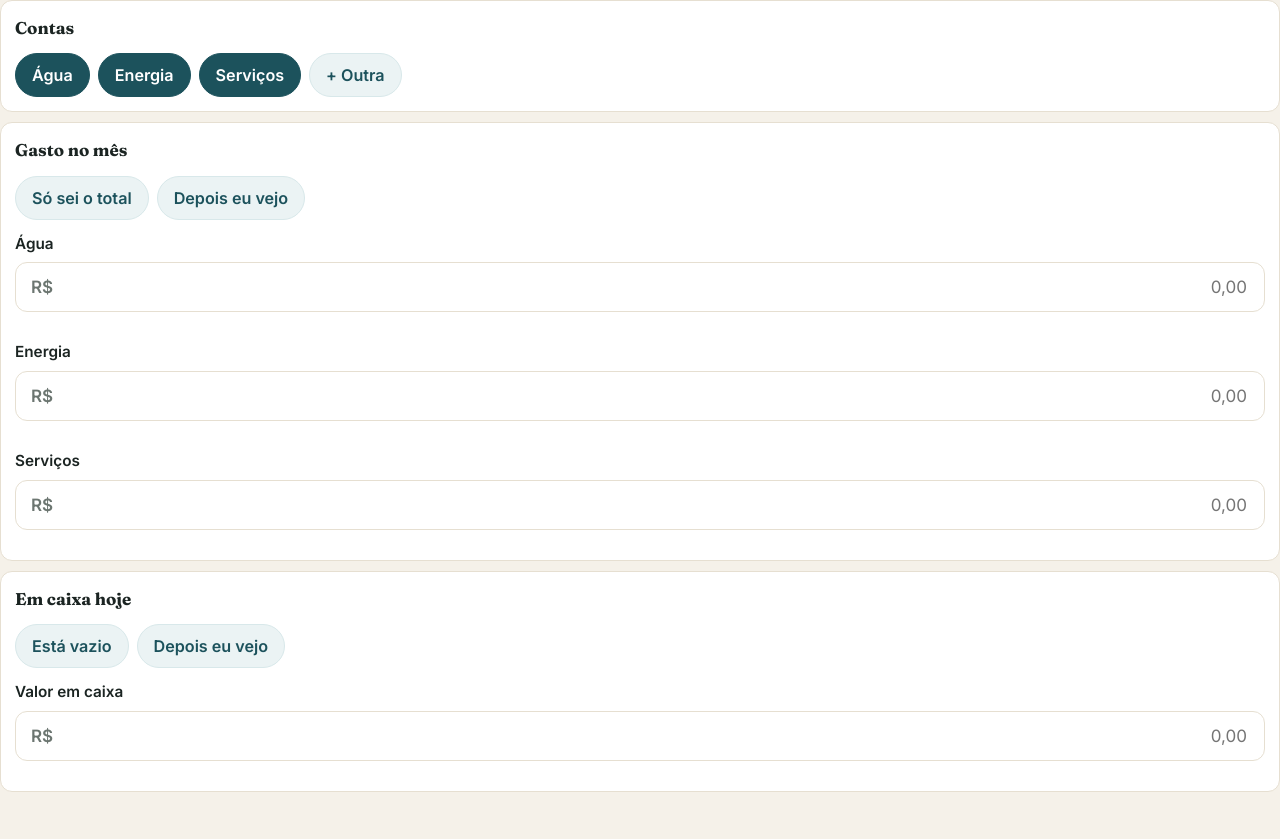
Scenario: GroundStep › a repeated category shows an error
Click the button "+ Outra" at (355,75), box [309,53,402,97]
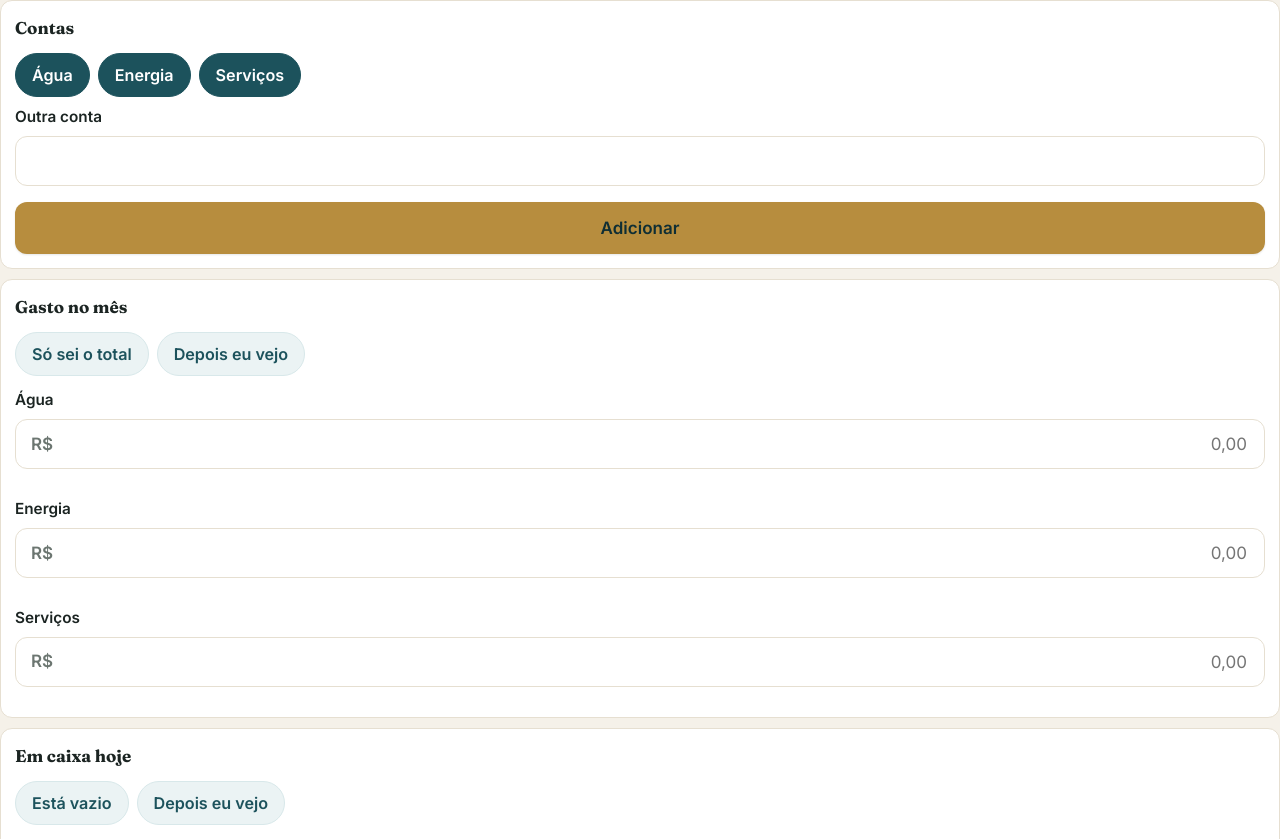
Type "água" into the field labelled "Outra conta" at (640,161), box [15,136,1265,186]
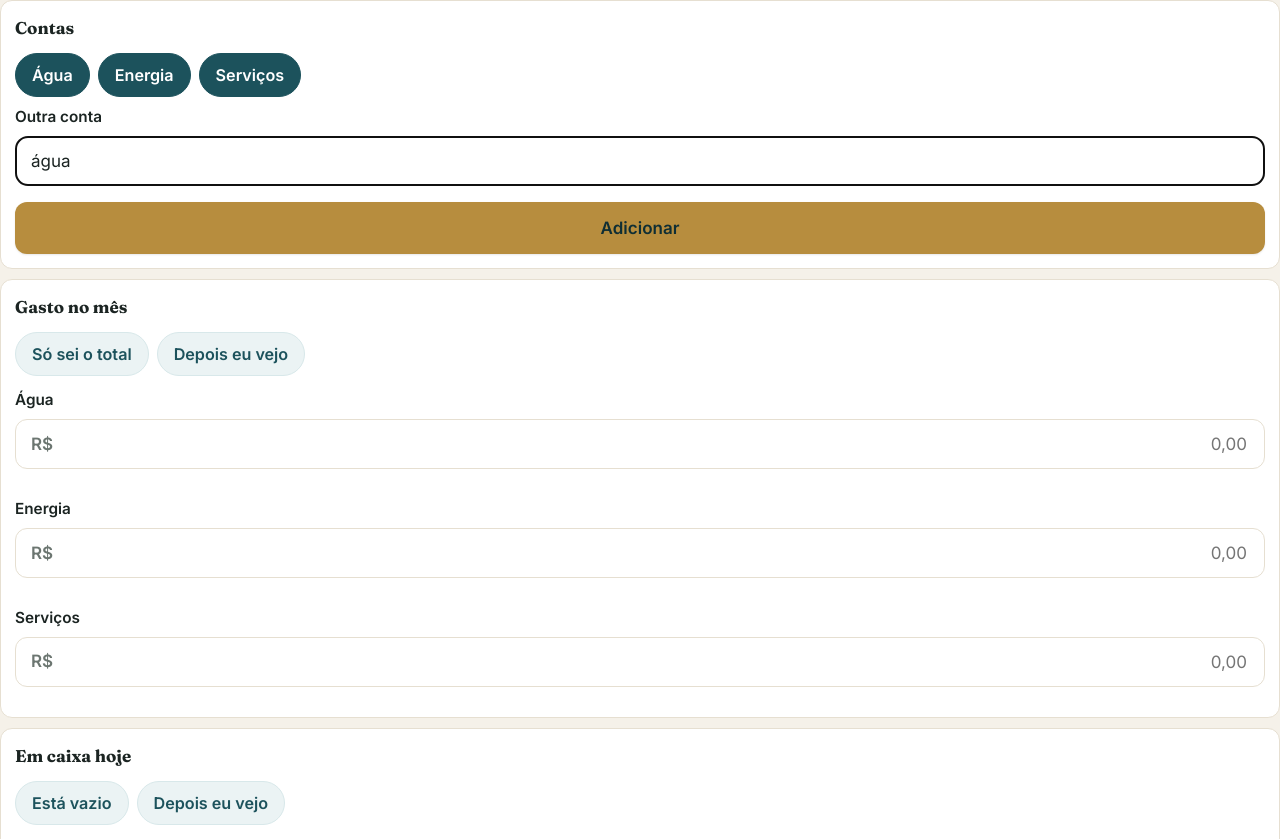
Click the button "Adicionar" at (640,228), box [15,202,1265,254]
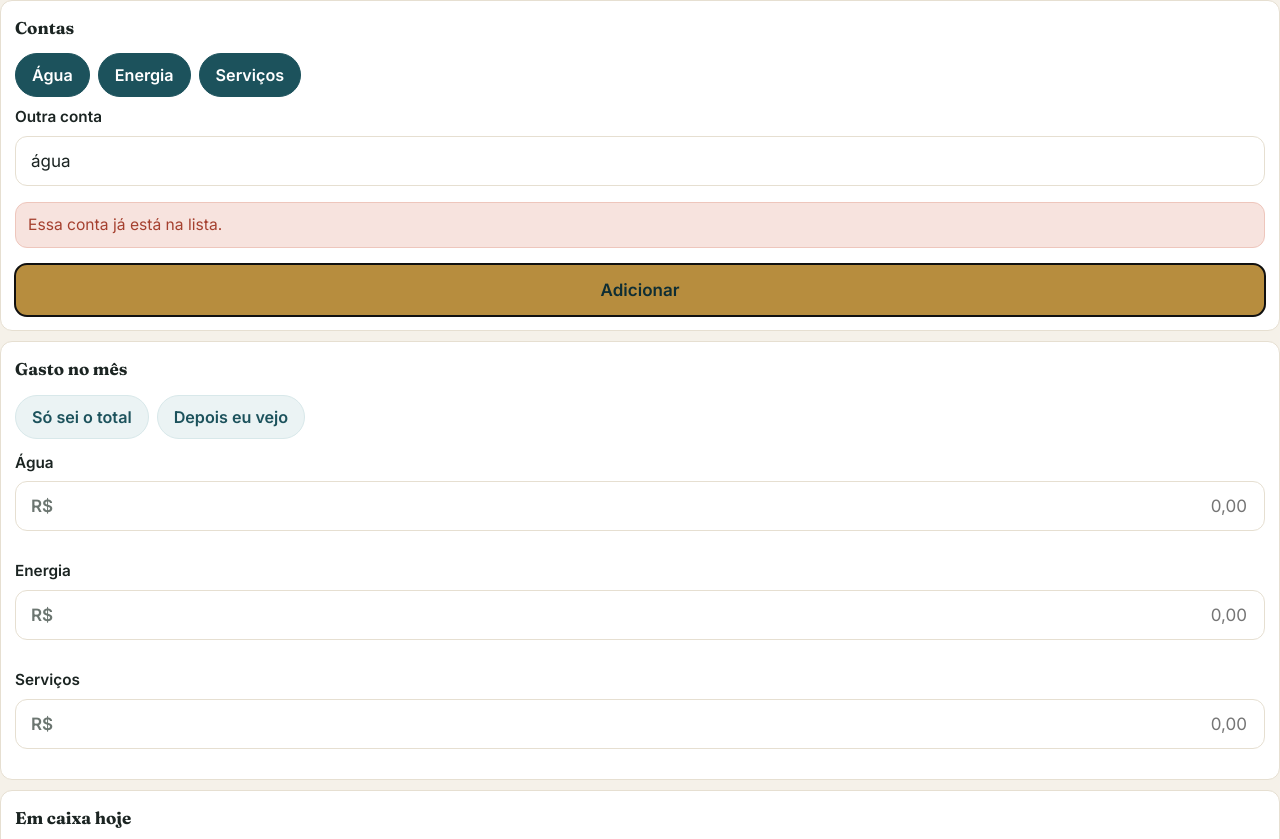
Expected: the message reads "Essa conta já está na lista.", [28,215,222,234]
